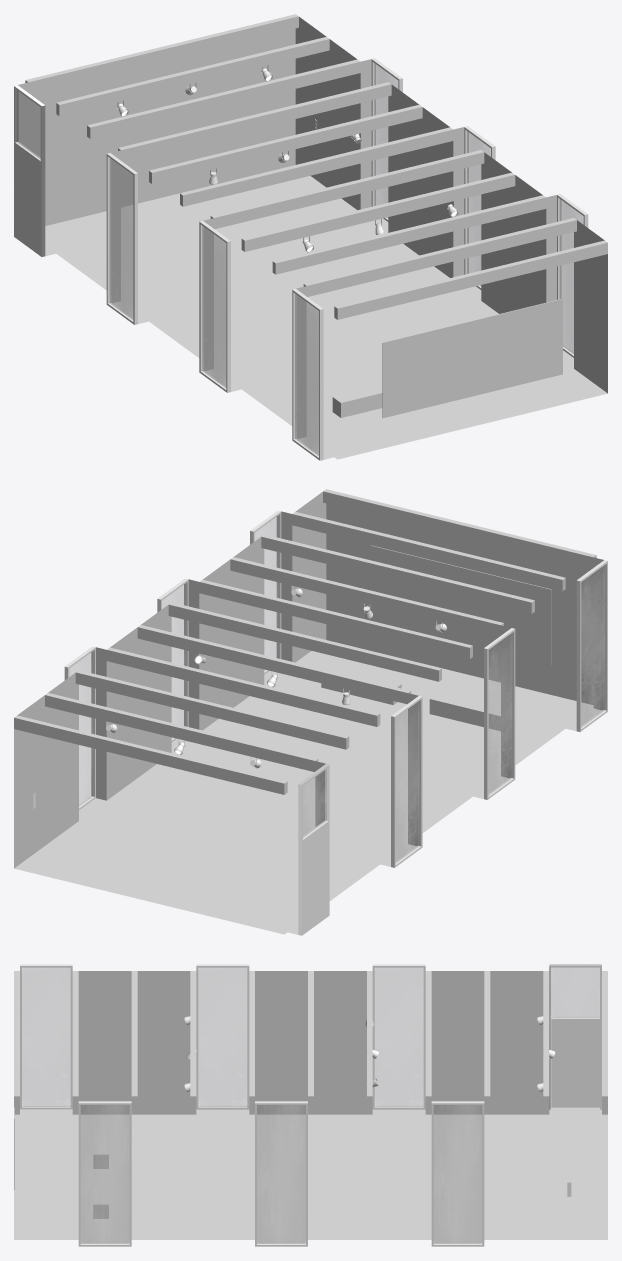
3 views of the same model, one above another, from view 1: azimuth 30°, elevation 25°; view 2: azimuth 150°, elevation 25°; view 3: azimuth 270°, elevation 25° (orthographic). The views are drawn at different scales.
Visible parts, largest first — view 1: floor, walls, glass, paintiing, details; view 2: floor, walls, glass, details, paintiing; view 3: floor, walls, glass, details.
Boxes of the visible parts, x1=… form: floor: x1=25, y1=14, x2=607, y2=459; walls: x1=18, y1=17, x2=607, y2=459; glass: x1=17, y1=63, x2=583, y2=455; paintiing: x1=382, y1=298, x2=562, y2=418; details: x1=14, y1=58, x2=588, y2=460; floor: x1=14, y1=489, x2=596, y2=934; walls: x1=14, y1=492, x2=603, y2=934; glass: x1=69, y1=516, x2=604, y2=862; details: x1=33, y1=510, x2=607, y2=935; paintiing: x1=371, y1=545, x2=551, y2=664; floor: x1=14, y1=971, x2=607, y2=1239; walls: x1=14, y1=971, x2=607, y2=1243; glass: x1=22, y1=967, x2=599, y2=1243; details: x1=20, y1=964, x2=601, y2=1246.
Bounding box in the file's own units: 5.97 × 2.88 × 10.79.
6 materials, 1 textured.
